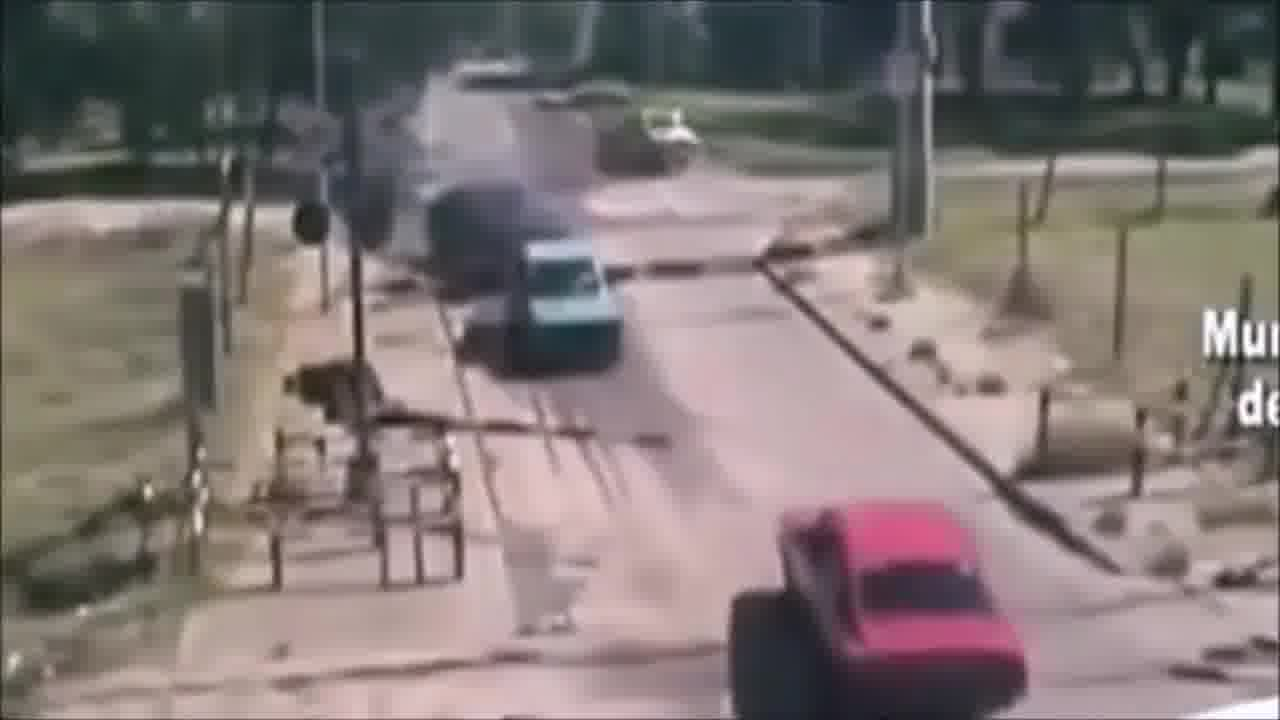crossing railway track: (743, 465, 1044, 720)
